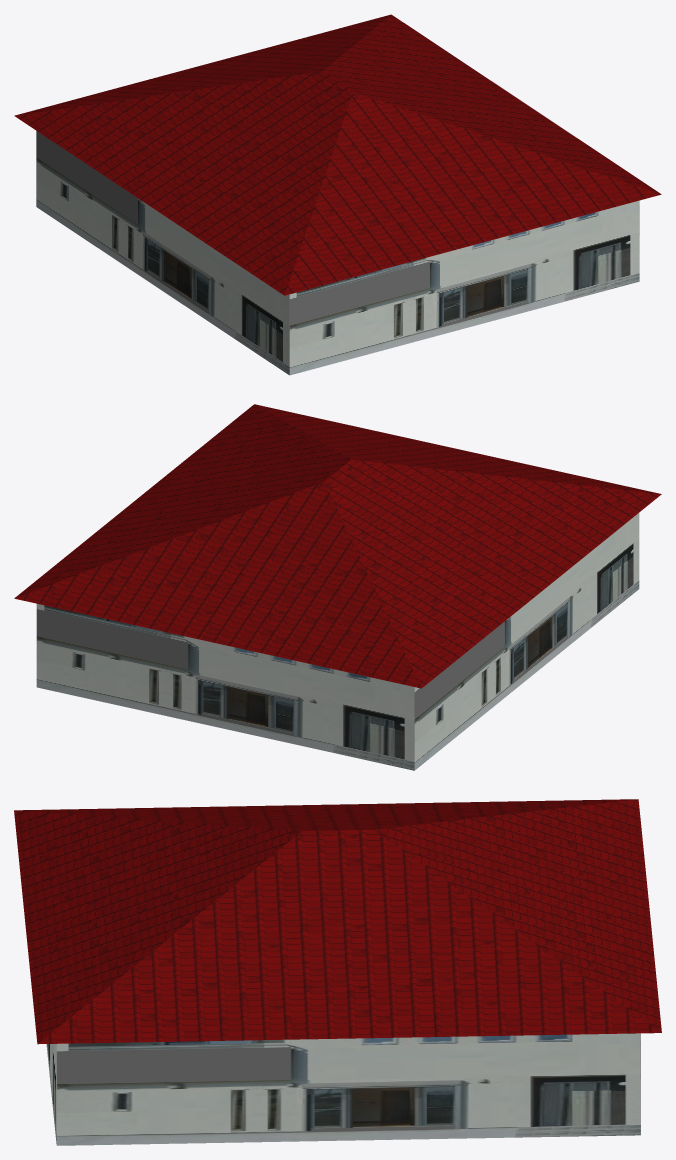
3 renders of one model, top to bottom at view 1: azimuth 30°, elevation 25°; view 2: azimuth 150°, elevation 25°; view 3: azimuth 270°, elevation 25°, orthographic. The views are drawn at different scales.
Visible parts, largest first — view 1: CityEngineMaterial_17_m, CityEngineMaterial_11_m; view 2: CityEngineMaterial_17_m, CityEngineMaterial_11_m; view 3: CityEngineMaterial_17_m, CityEngineMaterial_11_m.
Part boxes in pixels (<box>): CityEngineMaterial_17_m: <box>14,14,661,295</box>; CityEngineMaterial_11_m: <box>36,131,639,375</box>; CityEngineMaterial_17_m: <box>14,404,661,688</box>; CityEngineMaterial_11_m: <box>36,513,639,770</box>; CityEngineMaterial_17_m: <box>14,799,661,1044</box>; CityEngineMaterial_11_m: <box>46,1033,640,1145</box>.
Size of the model in its own units: 27.03 by 10.38 by 30.21.
